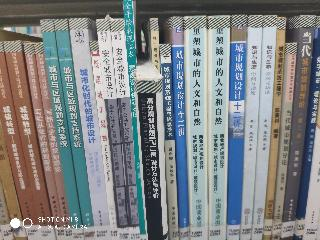book-spine: (4, 39, 56, 240), (41, 19, 84, 240), (70, 18, 111, 240), (55, 19, 95, 240), (23, 43, 65, 240), (0, 42, 40, 240), (35, 43, 73, 239), (283, 16, 316, 240), (98, 19, 129, 240), (111, 19, 140, 240), (292, 17, 320, 239), (123, 1, 147, 240), (251, 15, 276, 240), (238, 16, 262, 240), (91, 41, 118, 240), (207, 16, 229, 239), (272, 43, 296, 239), (139, 78, 168, 240), (187, 17, 208, 240), (264, 17, 285, 239), (226, 15, 246, 239), (173, 17, 190, 239), (161, 44, 180, 239), (150, 18, 161, 72)
